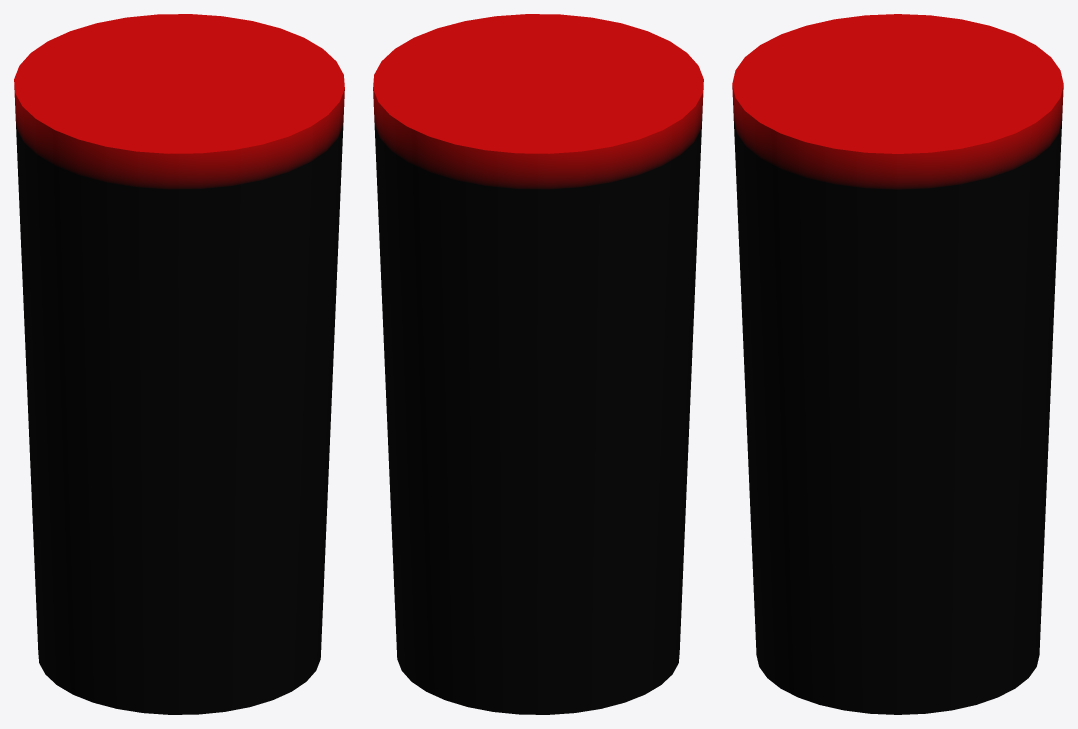
The model's file is WaterGlass.fbx.
3 views of the same model, side by side, from view 1: azimuth 30°, elevation 25°; view 2: azimuth 150°, elevation 25°; view 3: azimuth 270°, elevation 25° (orthographic).
Visible parts, largest first — view 1: WaterGlass; view 2: WaterGlass; view 3: WaterGlass.
Boxes of the visible parts, x1=… form: WaterGlass: x1=14, y1=14, x2=344, y2=714; WaterGlass: x1=373, y1=14, x2=703, y2=714; WaterGlass: x1=732, y1=14, x2=1063, y2=714.
Bounding box in the file's own units: 11.25 × 21.39 × 11.25.
